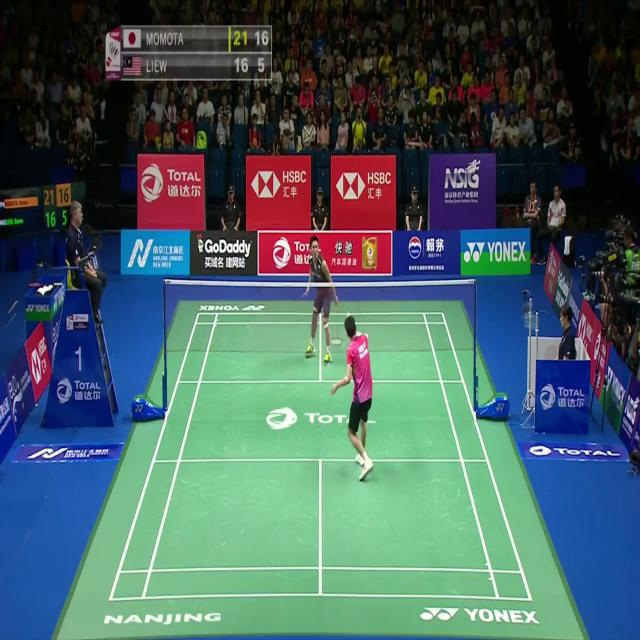Shuttlecock: (345, 309, 352, 320)
